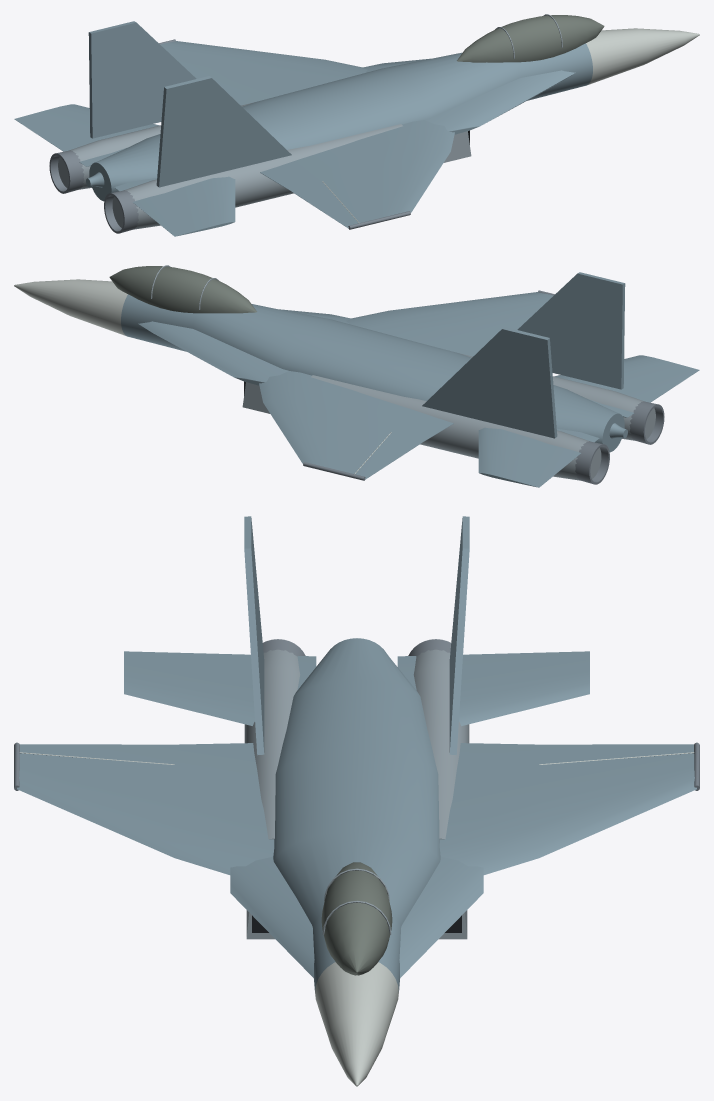
File: pla_fighter_j16.glb
3 renders of one model, top to bottom at view 1: azimuth 30°, elevation 25°; view 2: azimuth 150°, elevation 25°; view 3: azimuth 270°, elevation 25°, orthographic. The views are drawn at different scales.
Visible parts, largest first — view 1: airframe_blue, airframe, canopy_gold, array_face, titanium; view 2: airframe_blue, airframe, canopy_gold, array_face, titanium; view 3: airframe_blue, airframe, array_face, canopy_gold, titanium.
Part boxes in pixels (x1,y1,x2,y2): airframe_blue: (14, 21, 592, 236); airframe: (58, 14, 562, 229); canopy_gold: (457, 15, 604, 62); array_face: (322, 28, 699, 223); titanium: (49, 39, 410, 233); airframe_blue: (121, 272, 699, 487); airframe: (151, 265, 655, 480); canopy_gold: (109, 266, 256, 313); array_face: (14, 279, 391, 474); titanium: (303, 290, 664, 484); airframe_blue: (17, 516, 696, 991); airframe: (244, 649, 469, 939); array_face: (19, 752, 694, 1086); canopy_gold: (321, 862, 392, 975); titanium: (14, 639, 699, 790).
Size of the model in its own units: 10 by 2.25 by 6.69.
